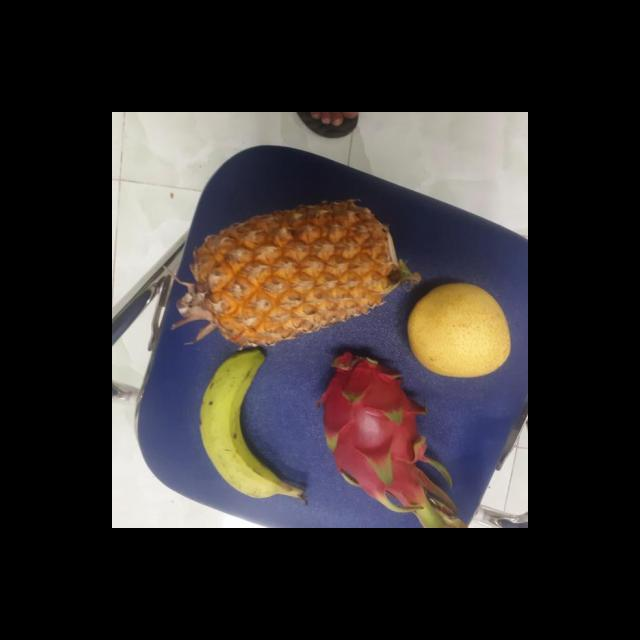banana: (196, 352, 300, 497)
pear: (407, 280, 511, 385)
pineapple: (176, 207, 405, 351)
pitaya: (315, 352, 435, 499)
